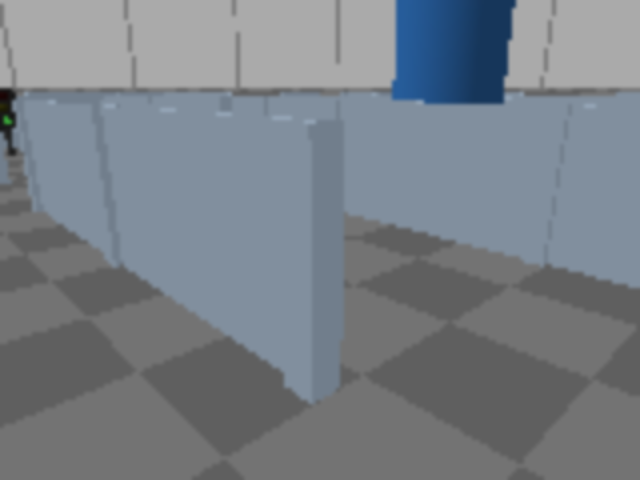traffic_light: (0, 85, 26, 157)
